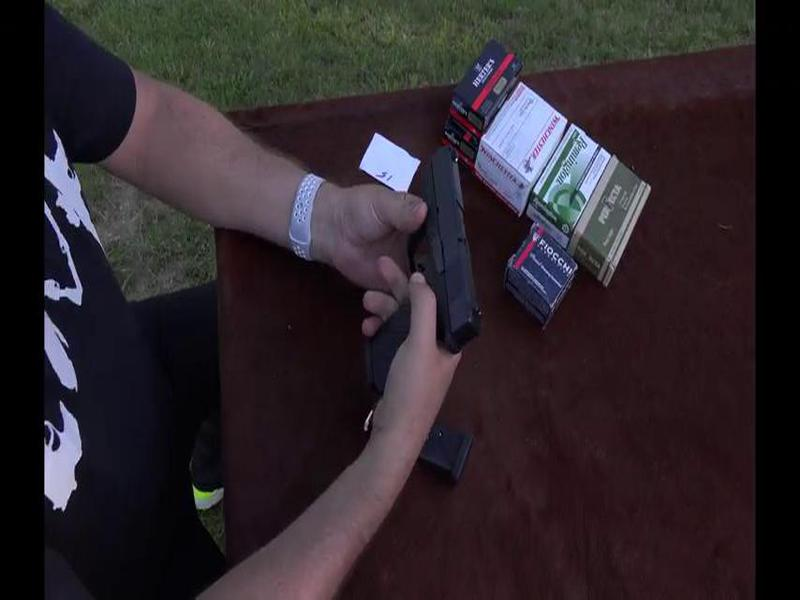Pistola: (387, 143, 492, 365)
